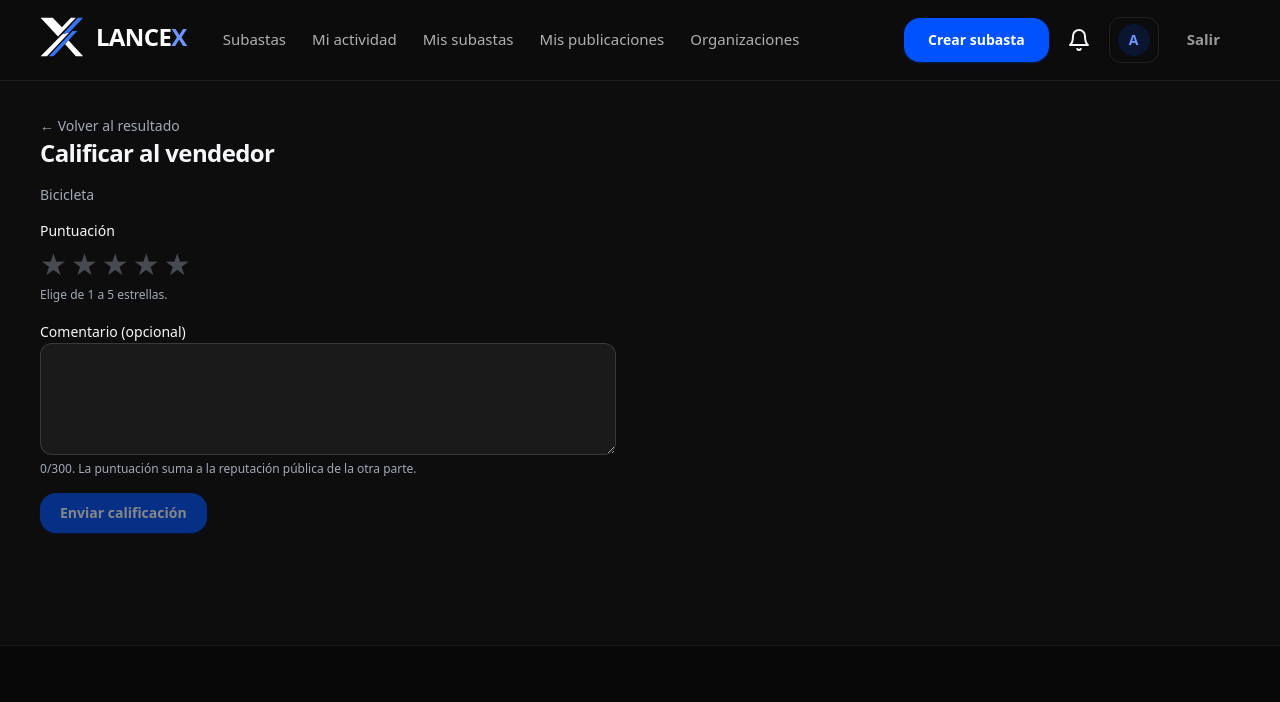
LX-73: liquidación y calificación › /calificar: elige estrellas, envía {score, comment} y vuelve al resultado
expect the button "Enviar calificación" is disabled: met, box x1=40 y1=493 x2=207 y2=533
Click the radio button named "4 de 5" at (146, 264), box x1=133 y1=249 x2=160 y2=279
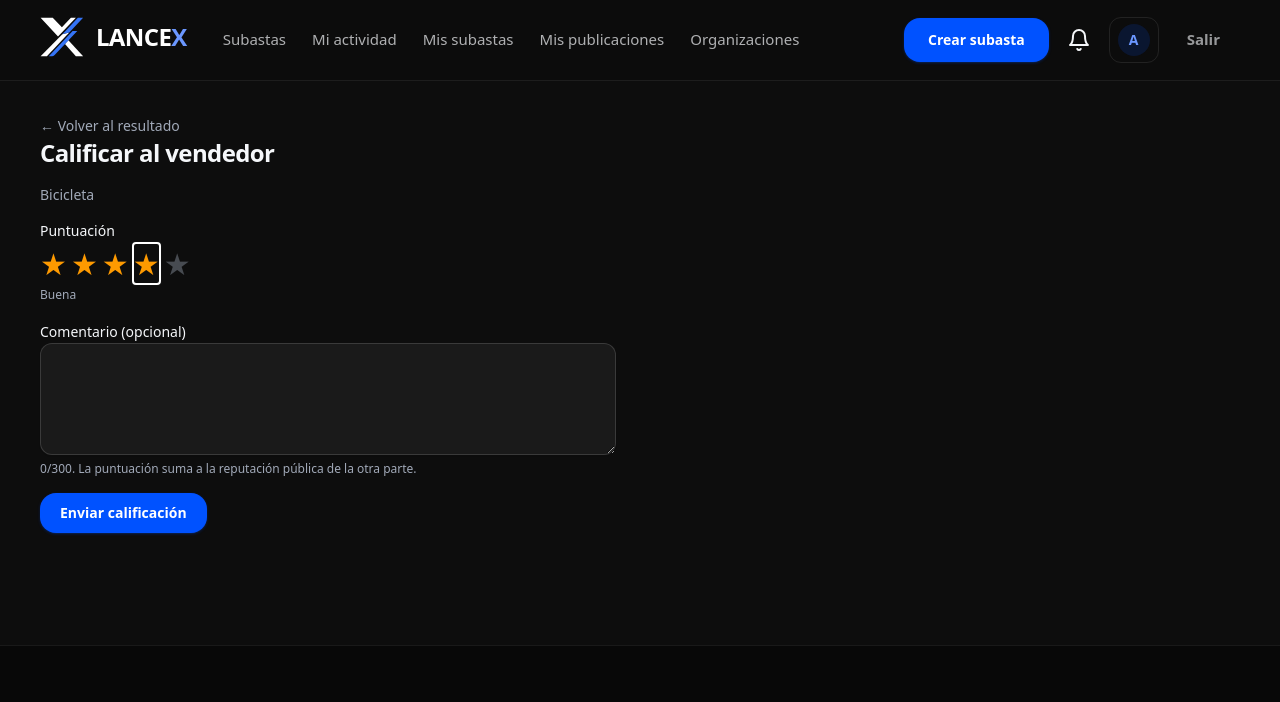
Type " Todo bien " into the text box labelled "Comentario (opcional)" at (328, 399), box x1=40 y1=343 x2=616 y2=455
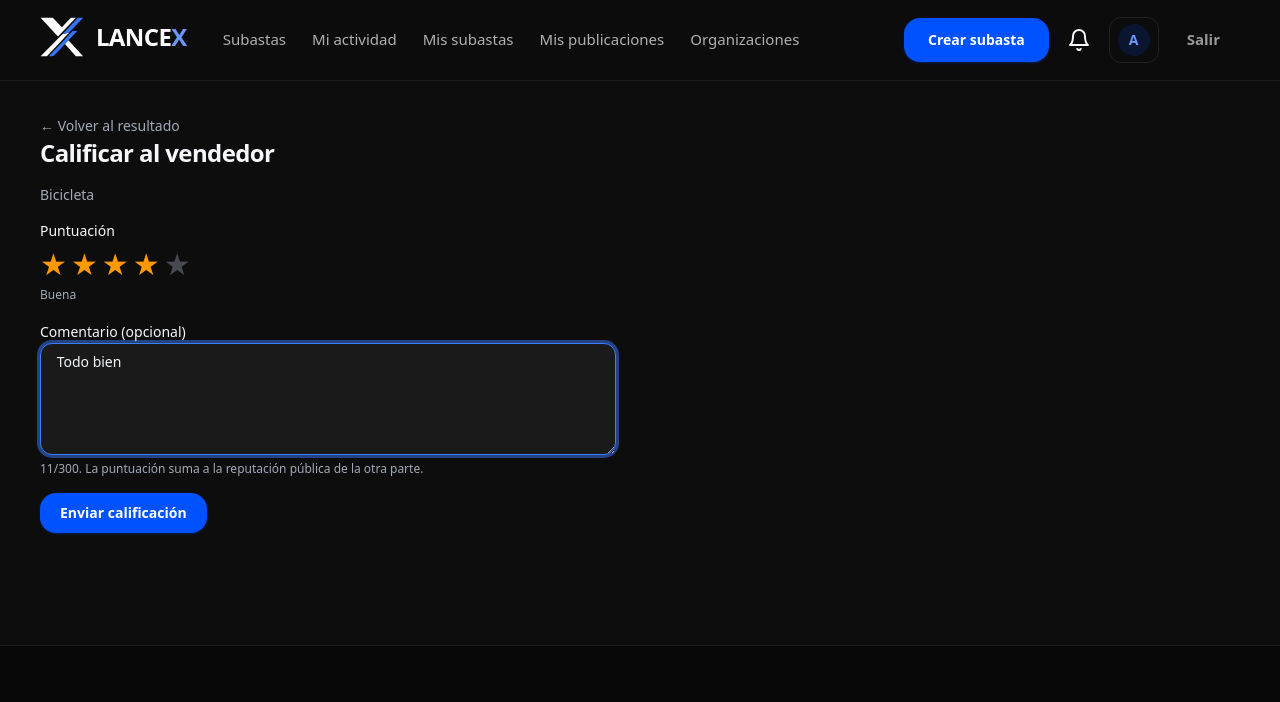
Click the button "Enviar calificación" at (123, 513), box x1=40 y1=493 x2=207 y2=533
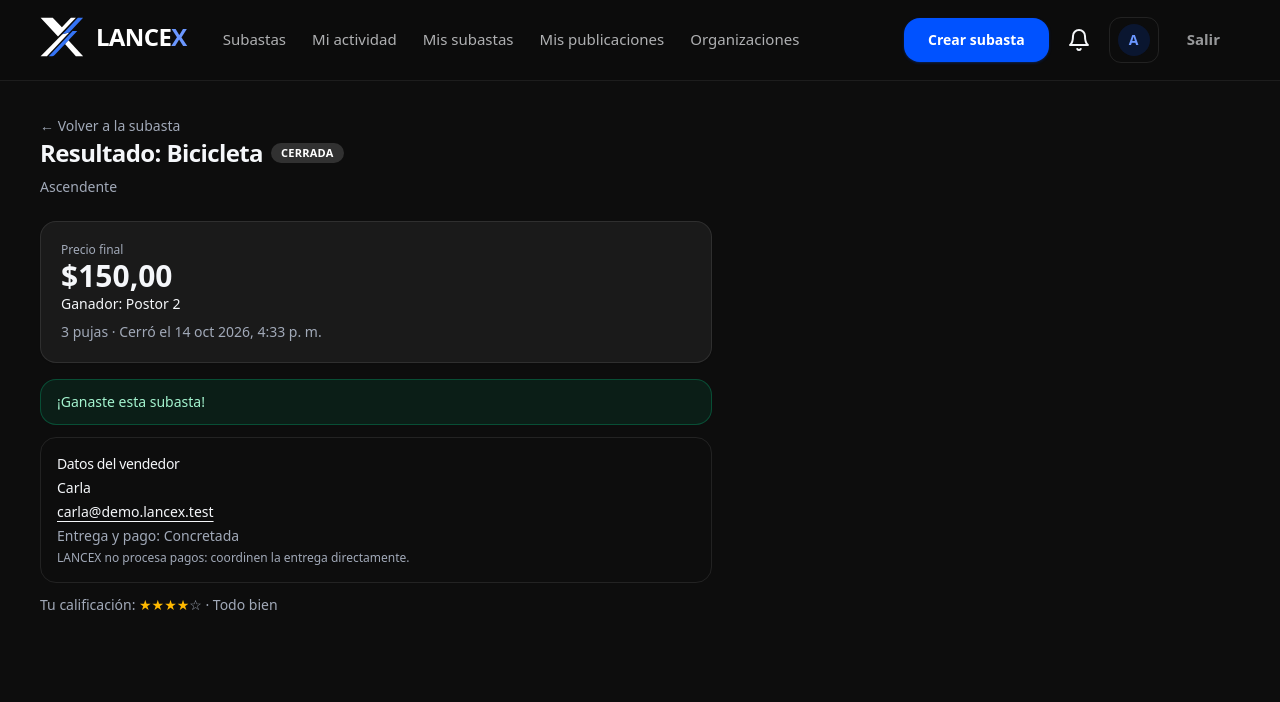
expect the text "Tu calificación: ★★★★☆ · Todo bien" is shown: met, box x1=40 y1=595 x2=278 y2=614
